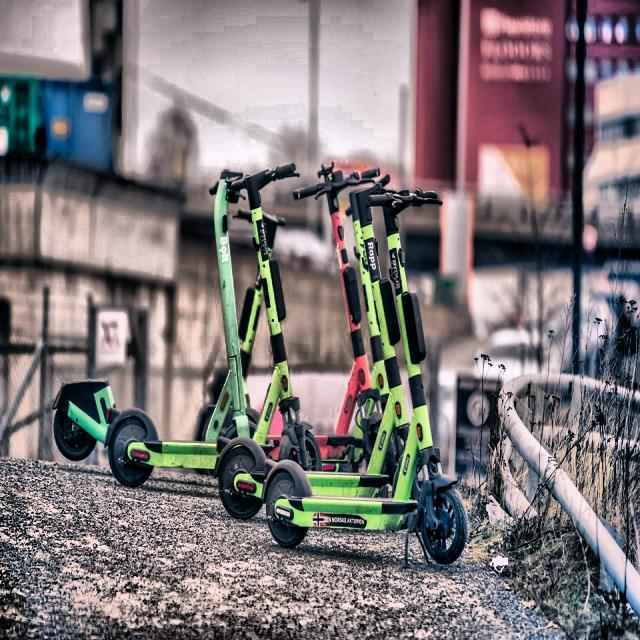bike: (50, 160, 469, 566), (267, 163, 469, 566), (469, 348, 640, 640)
